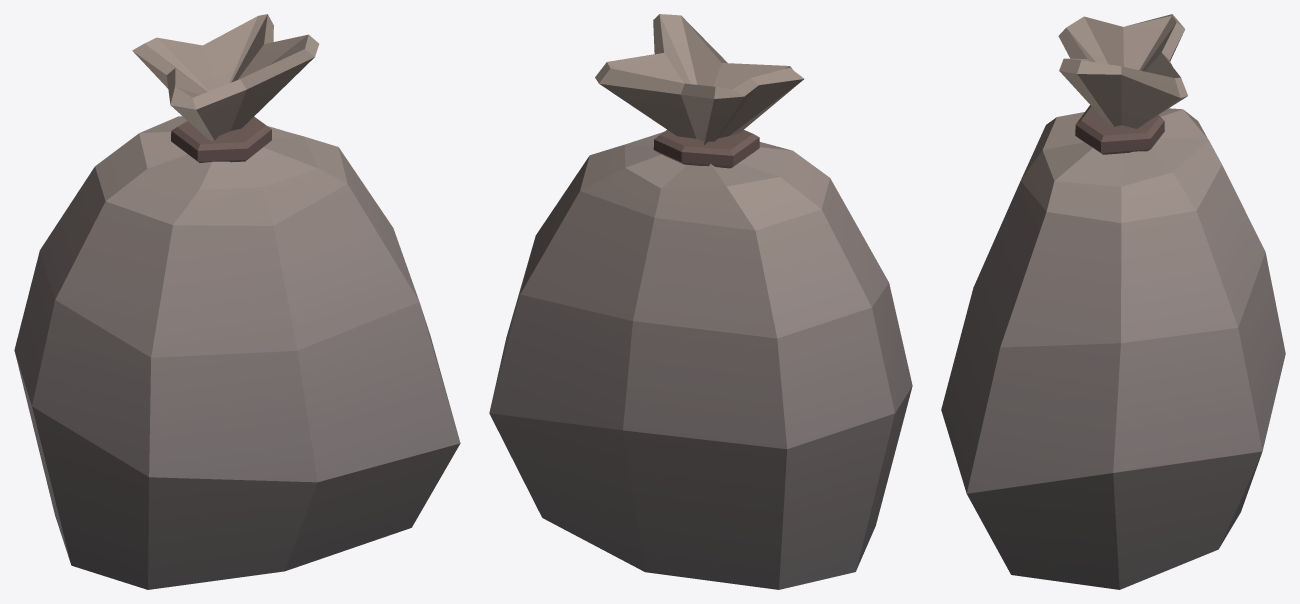
The model's file is SM_CottonSack.fbx.
3 views of the same model, side by side, from view 1: azimuth 30°, elevation 25°; view 2: azimuth 150°, elevation 25°; view 3: azimuth 270°, elevation 25° (orthographic).
Parts seen in each view (by area): view 1: sack; view 2: sack; view 3: sack.
Boxes of the visible parts, x1,y1,x2,y2 form: sack: (14, 14, 460, 589); sack: (489, 14, 912, 589); sack: (941, 14, 1285, 589).
Bounding box in the file's own units: 42.14 × 51.69 × 32.
